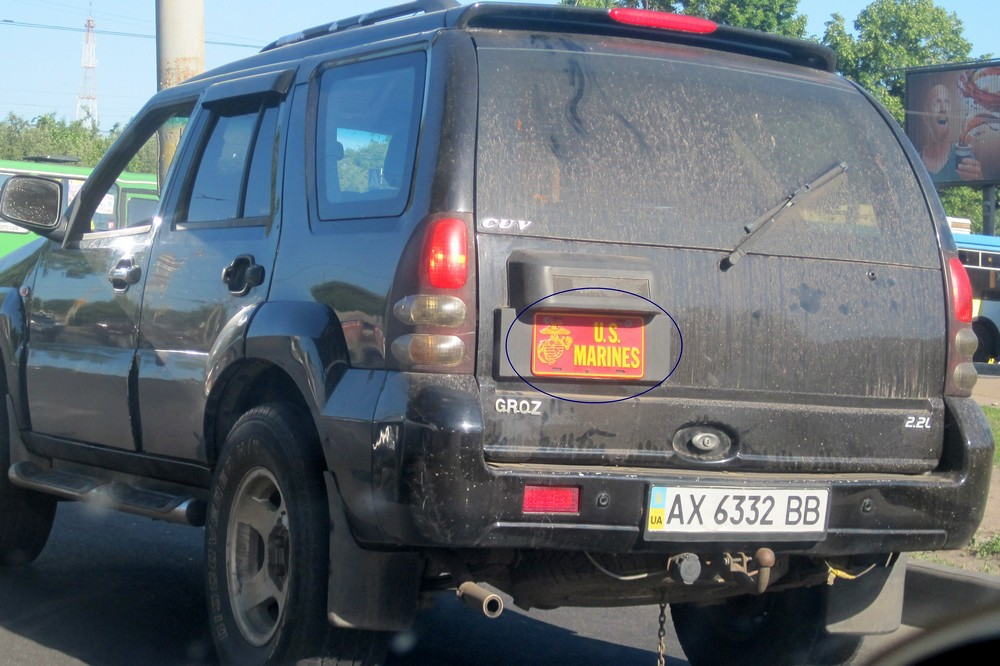car: (1, 1, 997, 666)
plate: (643, 480, 826, 537)
